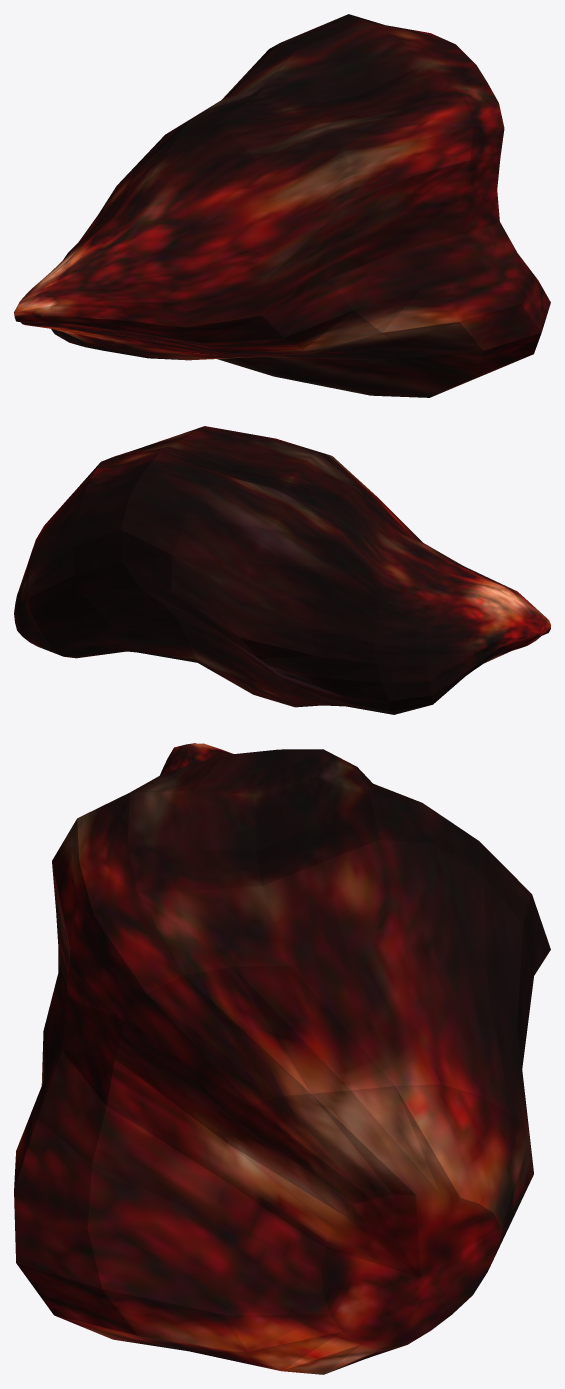
The model's file is zom_gib.obj.
3 views of the same model, one above another, from view 1: azimuth 30°, elevation 25°; view 2: azimuth 150°, elevation 25°; view 3: azimuth 270°, elevation 25° (orthographic). The views are drawn at different scales.
Size of the model in its own units: 7.44 by 4.08 by 3.98.
Materials: 1 (1 with a texture image).
